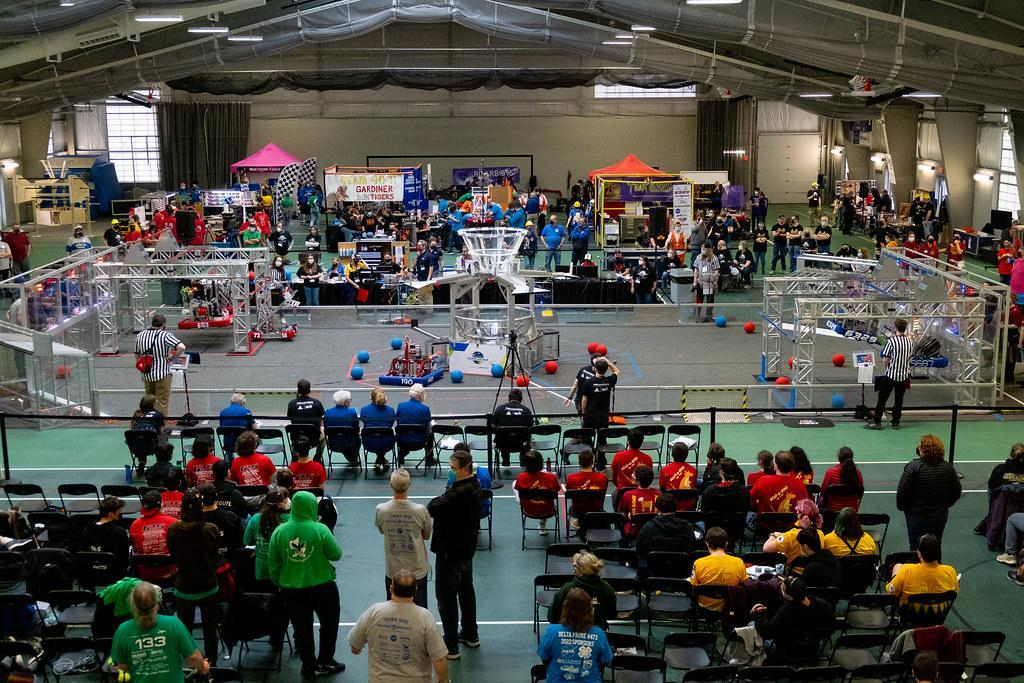robot: (374, 333, 450, 396), (897, 294, 952, 376), (824, 284, 887, 353), (250, 283, 307, 345), (180, 266, 233, 332)
